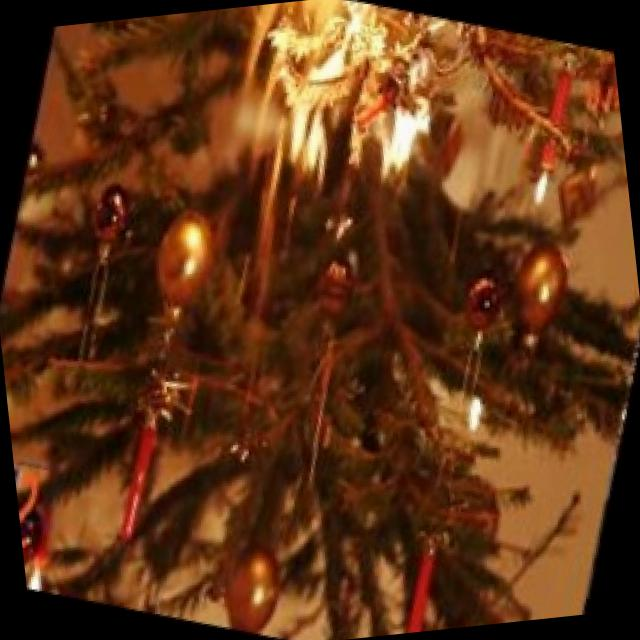fire: (192, 21, 479, 246)
